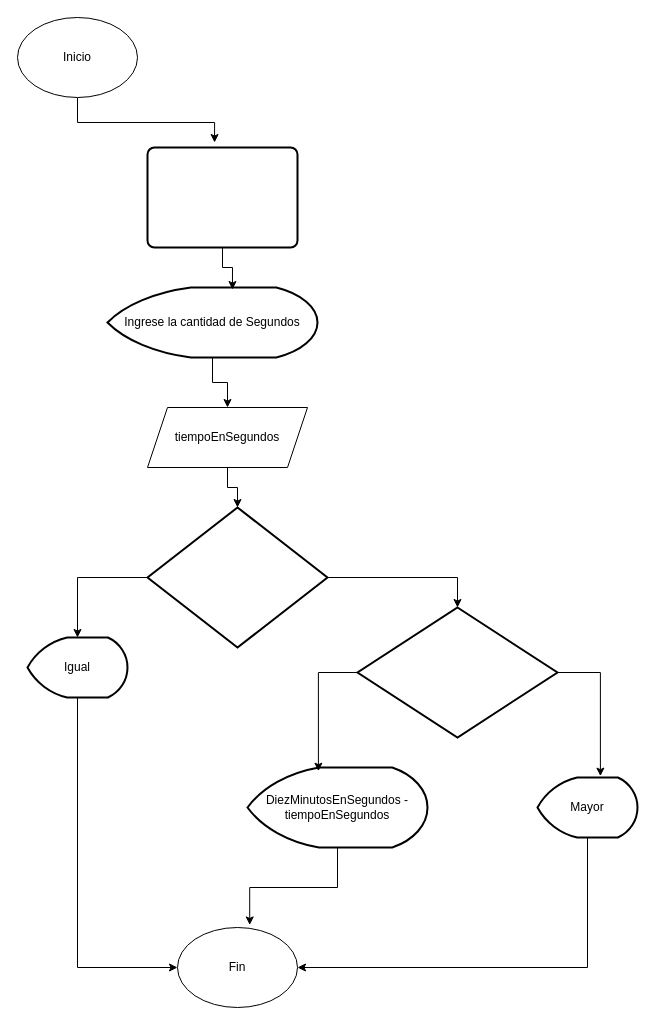
The diagram is 656 pixels wide and 1025 high, and some of its shapes have lost their labels. The shapes that lost their labels are listed below. From the top down, each one's box as (x1, y1, x2, y2) in pixels, then its label:
(146, 146, 298, 248): DiezMinutosEnSegundos = 600 tiempoEnSegundos = 0
(146, 506, 328, 648): tiempoEnSegundos == DiezMinutosEnSegundos
(356, 606, 558, 738): tiempoEnSegundos < DiezMinutosEnSegundos
